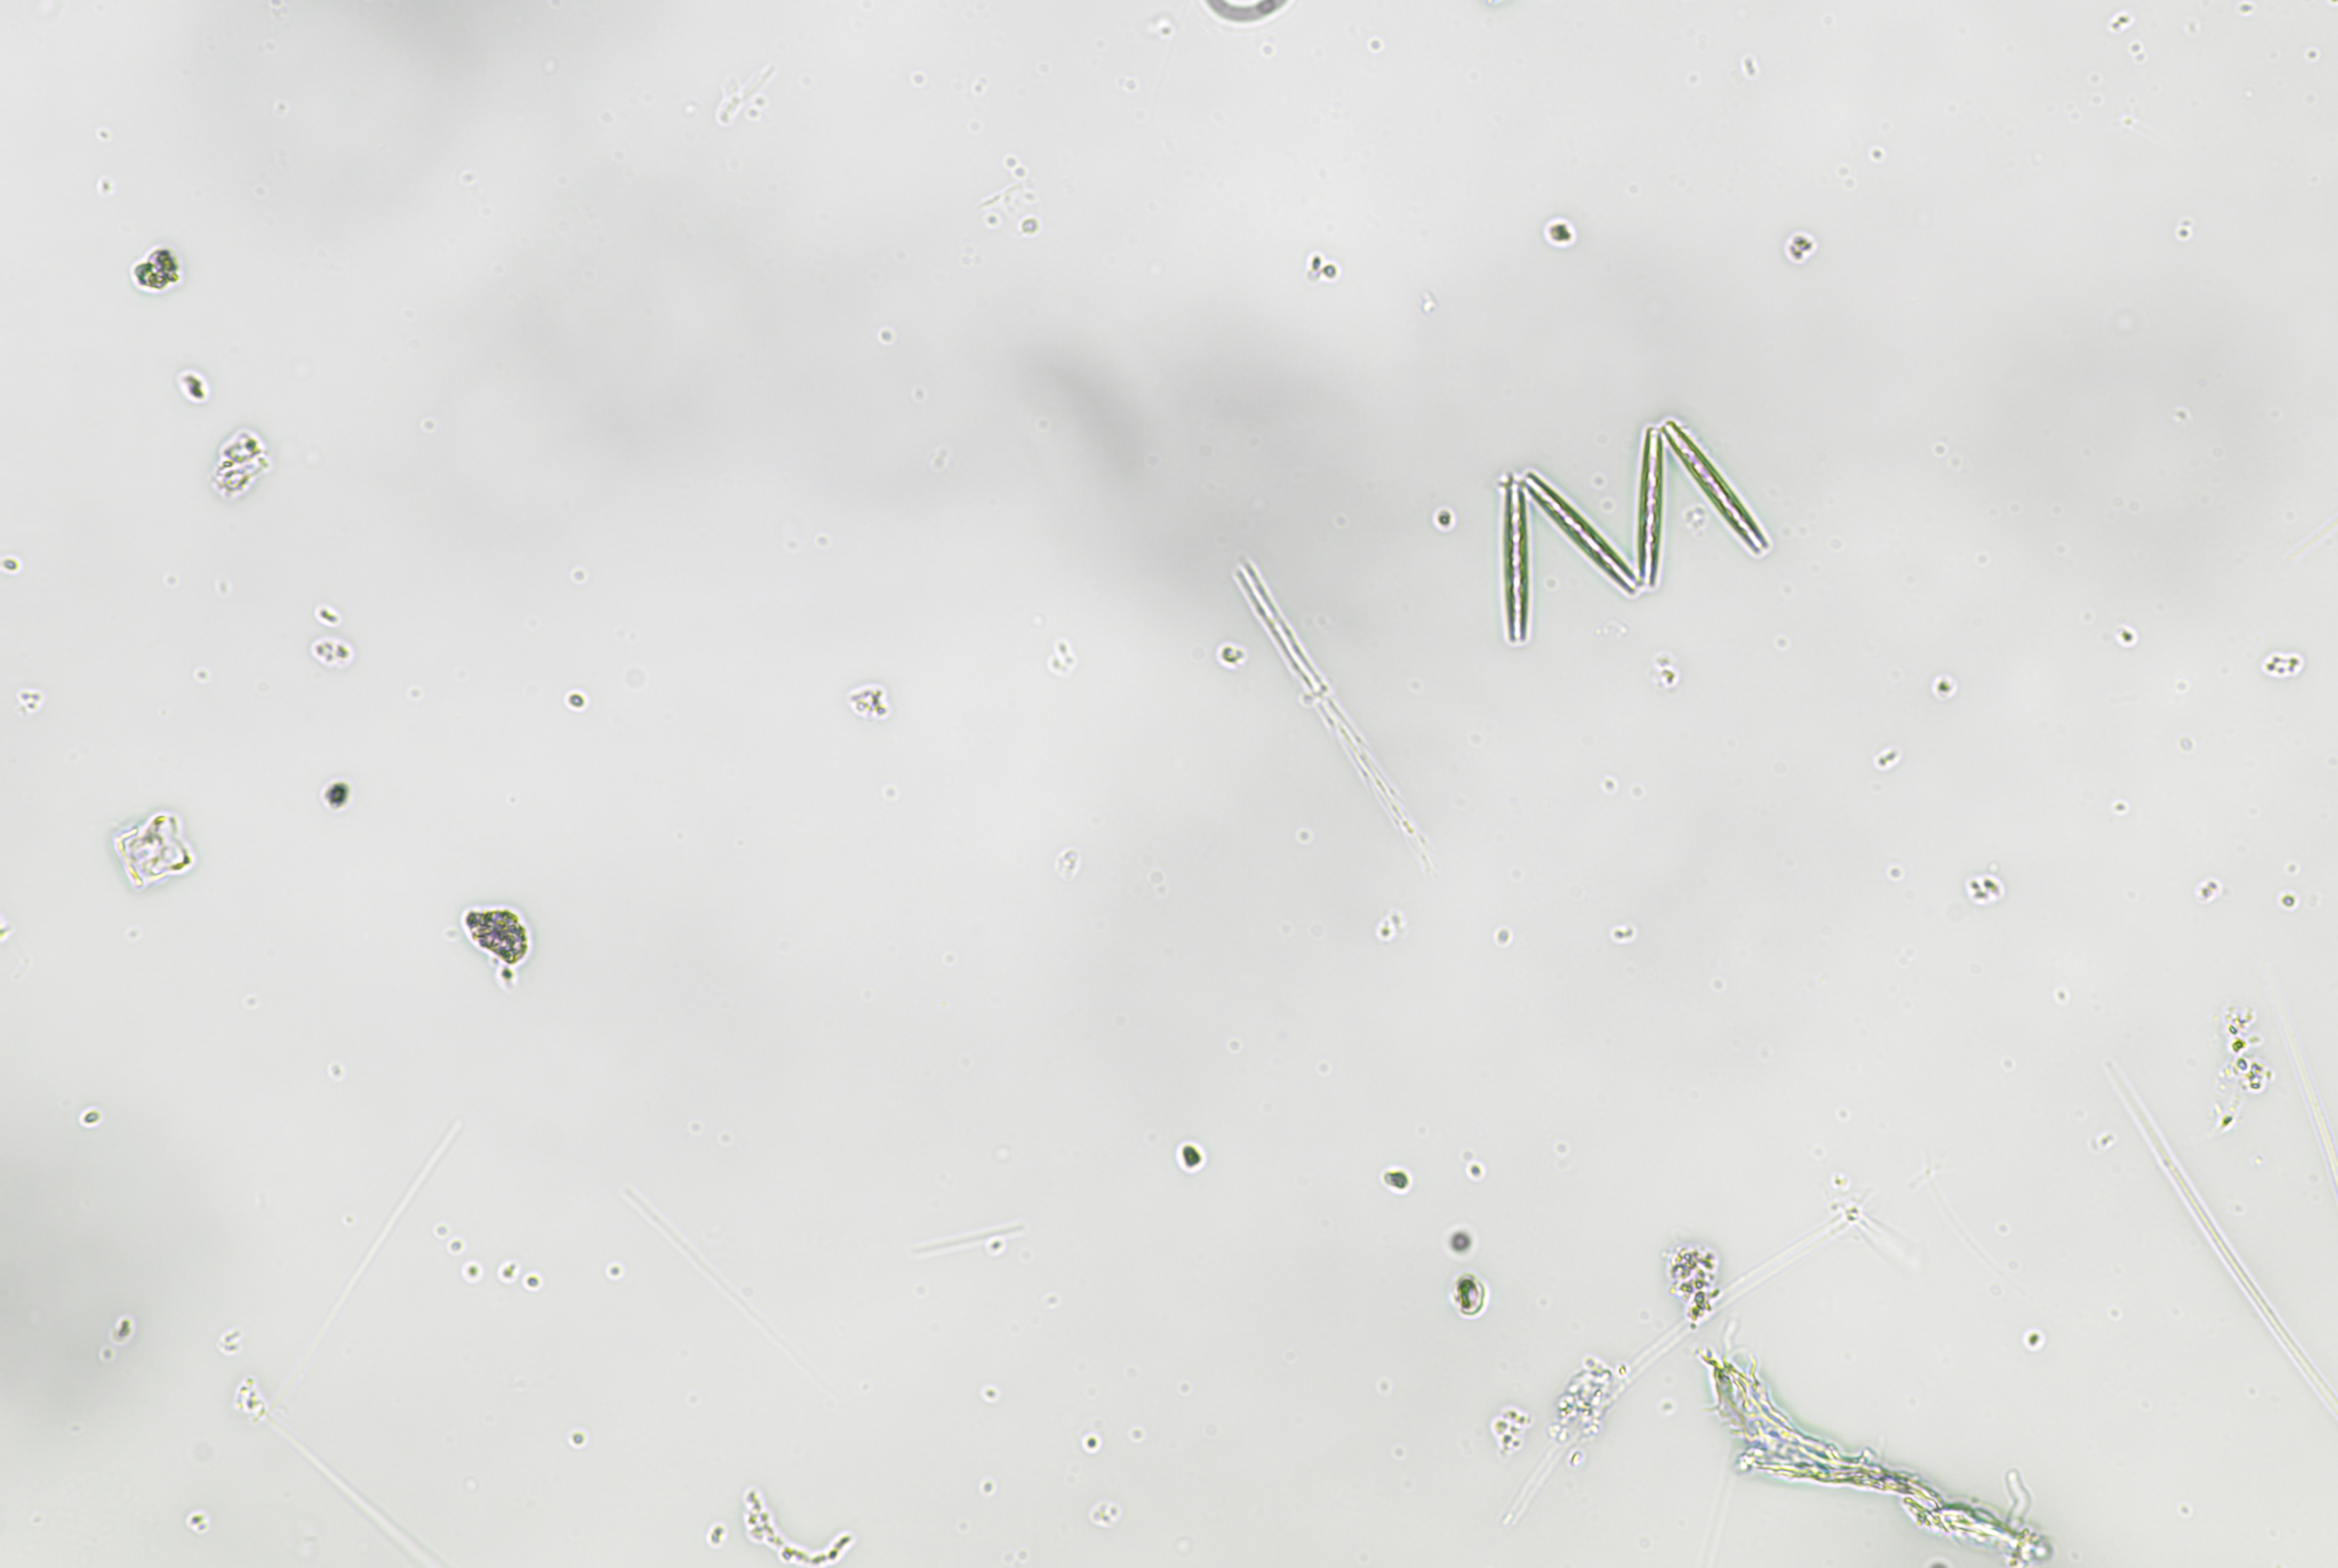thalassionema nitzschioides: (1461, 406, 1781, 647)
